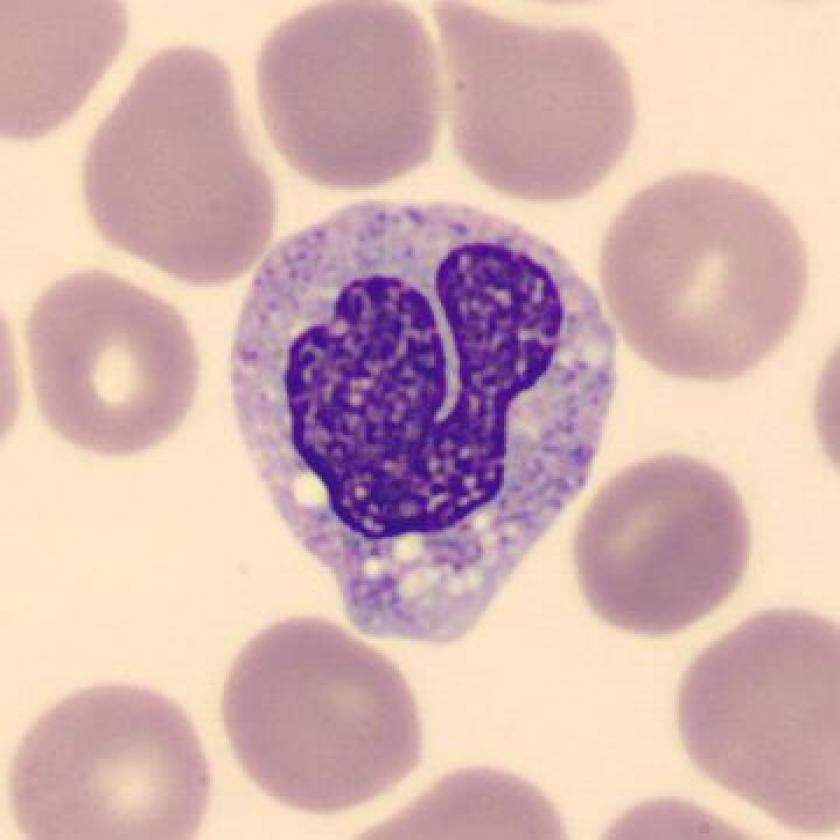monocyte: (209, 177, 636, 665)
